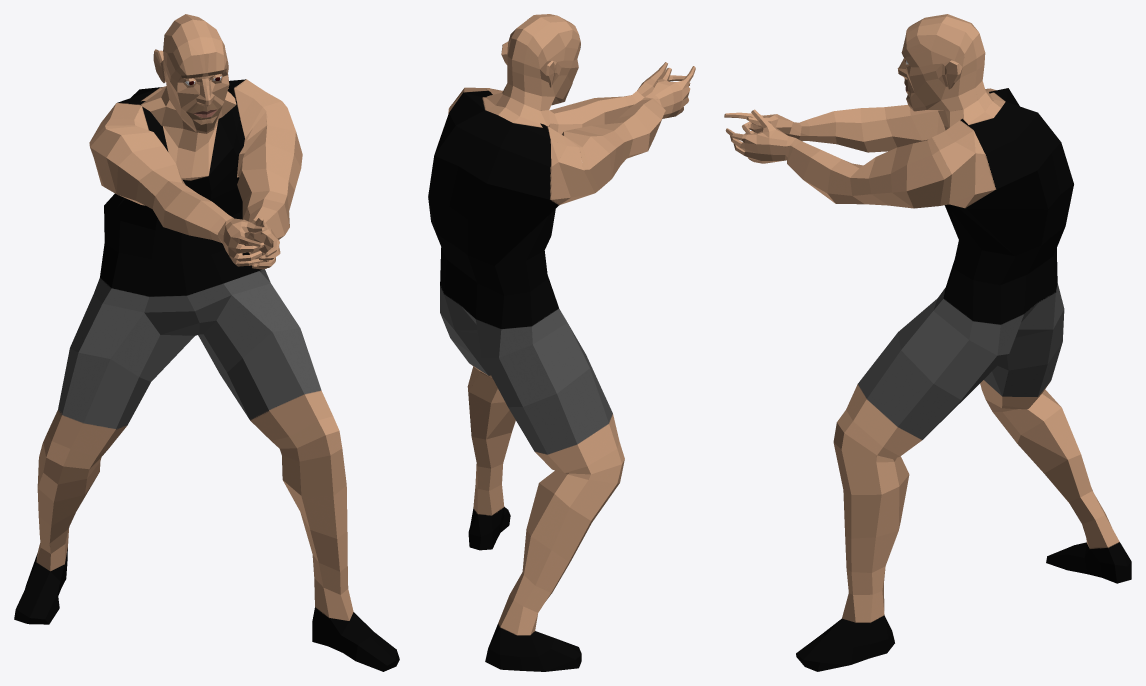
The model's file is PlayerShoot(23).obj.
3 views of the same model, side by side, from view 1: azimuth 30°, elevation 25°; view 2: azimuth 150°, elevation 25°; view 3: azimuth 270°, elevation 25° (orthographic). The views are drawn at different scales.
Parts seen in each view (by area): view 1: Plane002; view 2: Plane002; view 3: Plane002.
Boxes of the visible parts, left/top/right/bottom form: Plane002: left=14, top=14, right=399, bottom=671; Plane002: left=428, top=14, right=695, bottom=671; Plane002: left=724, top=14, right=1131, bottom=671.
Bounding box in the file's own units: 715 × 1664 × 1039.
